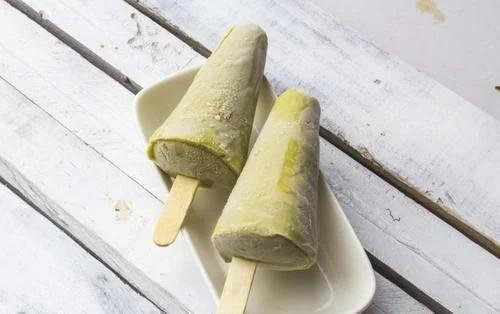Kulfi: (146, 22, 269, 190), (211, 89, 324, 271)
